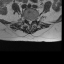CCS_normal: (29, 18, 30, 27)
LFS_normal: (32, 16, 34, 23)
LLS_normal: (30, 17, 32, 24)
RFS_normal: (25, 16, 27, 22)
RLS_normal: (27, 18, 29, 25)
